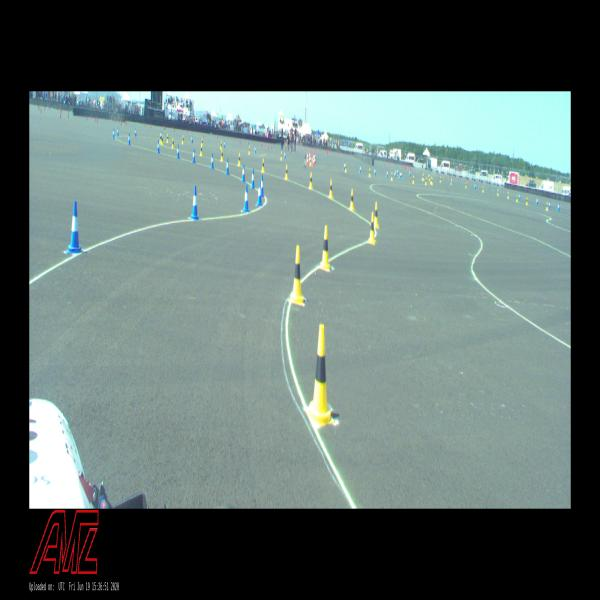blue_cone: (67, 202, 83, 253), (191, 186, 199, 220), (243, 185, 250, 212), (257, 180, 262, 205), (225, 158, 230, 175), (241, 164, 246, 181), (251, 169, 255, 188), (261, 175, 264, 197), (192, 149, 196, 163), (176, 145, 180, 158), (211, 153, 214, 168), (157, 141, 160, 153), (112, 128, 115, 138), (128, 134, 131, 144), (117, 127, 119, 136), (134, 128, 136, 136), (558, 202, 560, 210), (191, 135, 193, 143), (548, 201, 550, 209), (311, 156, 313, 164), (386, 169, 388, 176), (399, 172, 401, 179), (284, 152, 286, 159), (374, 167, 376, 174), (536, 198, 538, 204), (518, 194, 520, 200), (409, 170, 411, 176), (474, 183, 476, 189), (395, 169, 397, 175), (360, 165, 361, 173), (224, 140, 225, 148), (344, 162, 345, 170), (255, 146, 256, 153), (401, 171, 402, 178), (394, 171, 395, 177), (397, 168, 398, 174), (428, 174, 429, 179)
large_orange_cone: (312, 151, 315, 166), (306, 151, 308, 165), (314, 151, 316, 164), (309, 151, 310, 163)
yellow_cone: (306, 325, 334, 428), (290, 246, 304, 304), (320, 226, 332, 269), (368, 212, 376, 244), (374, 202, 379, 228), (350, 189, 354, 210), (329, 180, 333, 198), (309, 173, 313, 189), (285, 164, 288, 180), (220, 149, 224, 161), (238, 152, 241, 166), (262, 158, 264, 173), (200, 144, 202, 156), (172, 138, 174, 148), (412, 175, 414, 184), (248, 146, 250, 155), (516, 194, 518, 202), (526, 197, 528, 205), (220, 141, 222, 149), (546, 202, 548, 210), (182, 136, 184, 144), (425, 178, 427, 186), (431, 178, 433, 186), (345, 164, 347, 172), (422, 173, 424, 180), (497, 189, 499, 196), (482, 186, 484, 192), (465, 182, 467, 188), (507, 192, 509, 198), (430, 177, 432, 183), (162, 135, 163, 145), (167, 134, 168, 143), (310, 157, 311, 166), (202, 138, 203, 146), (369, 168, 370, 176), (281, 152, 282, 160), (391, 172, 392, 180), (160, 134, 161, 142), (440, 176, 441, 183), (429, 174, 430, 180)
